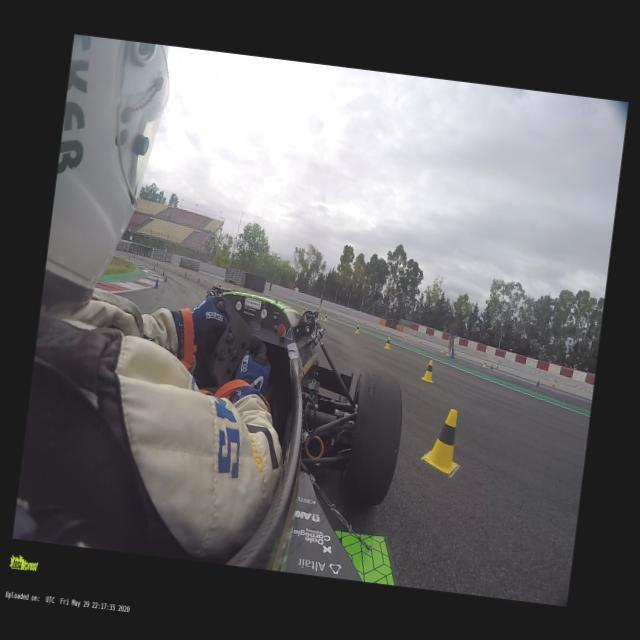blue_cone: (154, 278, 160, 288), (163, 274, 167, 282), (535, 380, 539, 388), (489, 363, 493, 369), (160, 270, 164, 275), (152, 266, 155, 270), (197, 278, 200, 282), (128, 256, 130, 260), (184, 272, 186, 276), (156, 262, 158, 266)
orange_cone: (550, 381, 556, 388)
yellow_cone: (419, 406, 466, 478), (418, 358, 436, 383), (383, 336, 391, 349), (353, 324, 359, 333), (482, 360, 486, 368), (323, 314, 328, 320), (439, 346, 444, 352), (375, 324, 379, 330), (247, 288, 251, 294), (403, 334, 406, 338), (302, 306, 304, 312), (279, 294, 282, 298), (230, 282, 233, 286), (338, 312, 340, 316), (356, 318, 358, 322)
